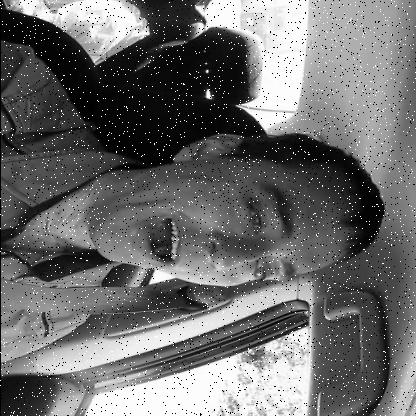seatbelt: (0, 137, 385, 315)
